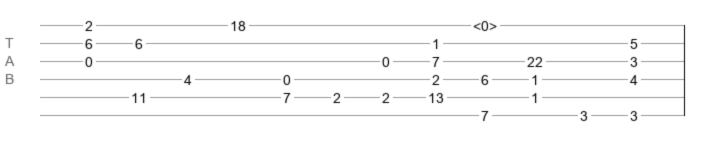0: (85, 54, 93, 64), (283, 72, 291, 82), (382, 54, 390, 64)
1: (432, 36, 440, 46), (531, 72, 539, 82), (531, 90, 539, 100)
11: (131, 90, 147, 100)
13: (428, 90, 444, 100)
18: (230, 18, 246, 28)
2: (85, 18, 93, 28), (333, 90, 341, 100), (382, 90, 390, 100), (432, 72, 440, 82)
22: (527, 54, 543, 64)
3: (580, 108, 588, 118), (630, 54, 638, 64), (630, 108, 638, 118)
4: (184, 72, 192, 82), (630, 72, 638, 82)
5: (630, 36, 638, 46)
6: (85, 36, 93, 46), (135, 36, 143, 46), (481, 72, 489, 82)
7: (283, 90, 291, 100), (432, 54, 440, 64), (481, 108, 489, 118)
harmonic: (473, 18, 497, 28)
